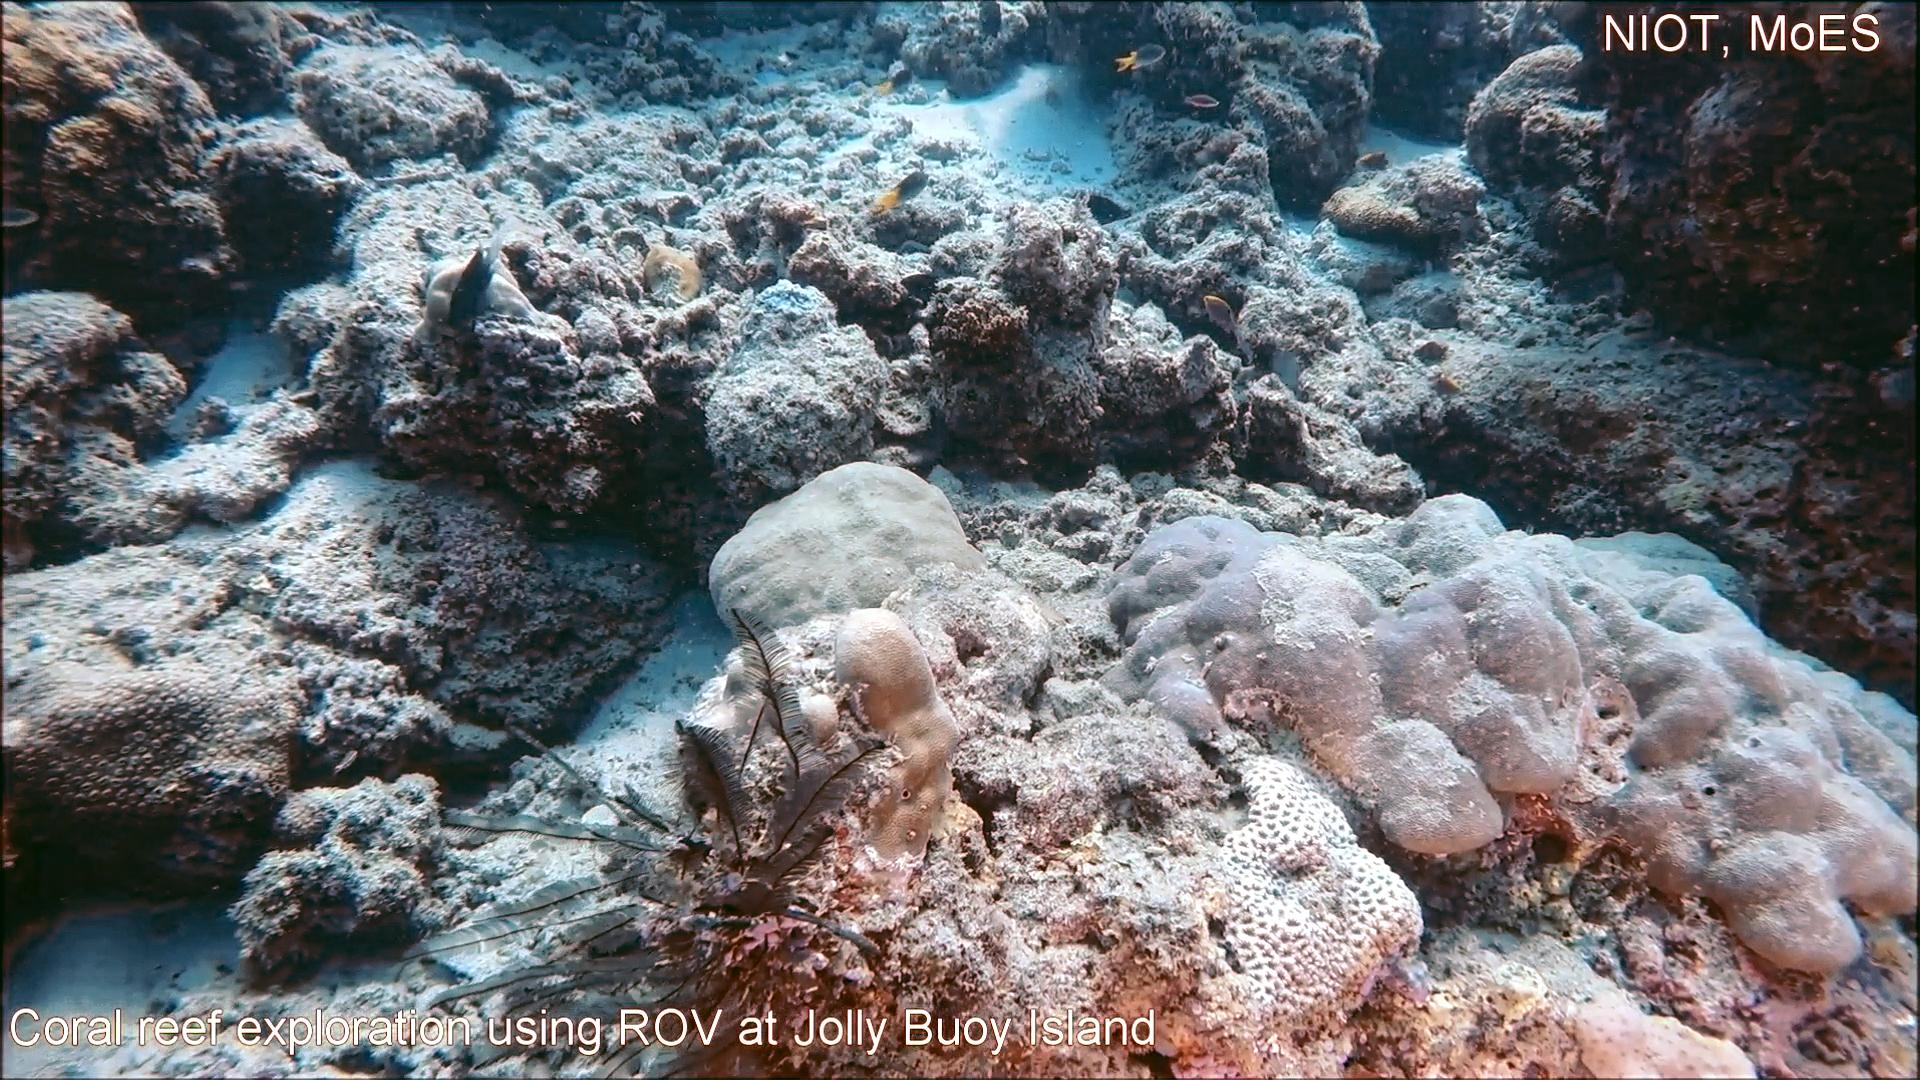Feather star-Crinoid star: (394, 596, 899, 1080)
Goniastrea-Goniastrea pectinata: (1189, 742, 1433, 1040)
Porites-Porites pukoensis: (1464, 484, 1920, 980)
Turbinaria-Turbinaria stellulata: (0, 654, 301, 849)
